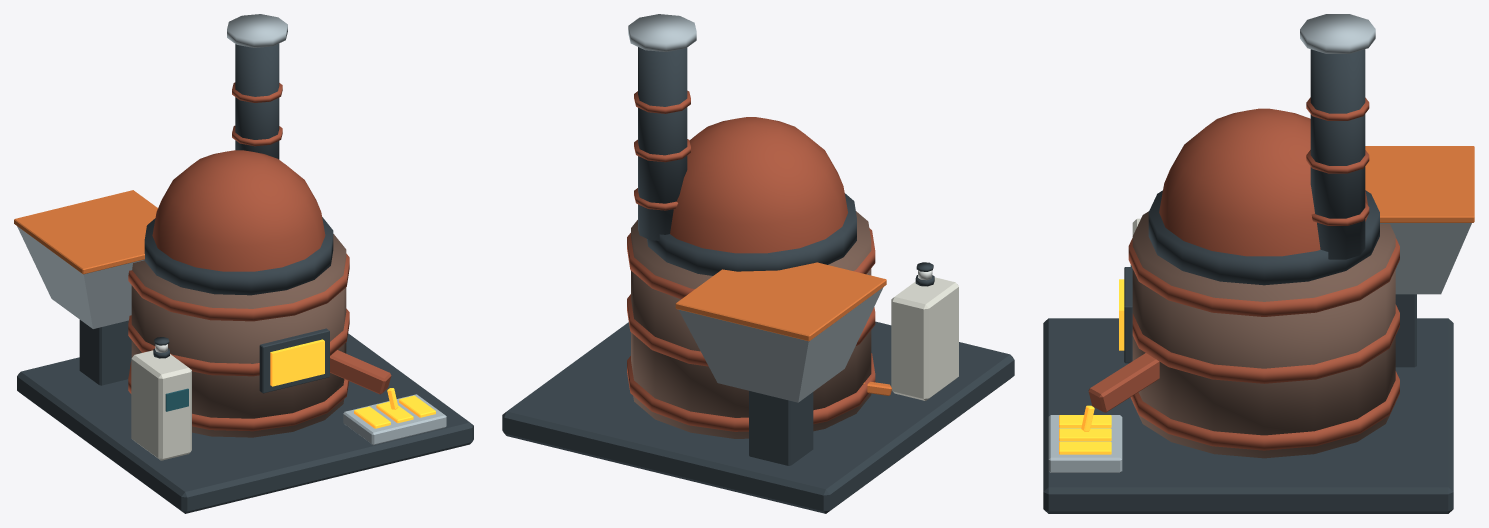
The model's file is furnace.glb.
The picture shows the model from 3 angles, left to right: view 1: azimuth 30°, elevation 25°; view 2: azimuth 150°, elevation 25°; view 3: azimuth 270°, elevation 25°; orthographic projection. The views are drawn at different scales.
Parts seen in each view (by area): view 1: furnace_dark, furnace_oxide, furnace_brick, furnace_metal, furnace_orange, furnace_ivory, Glow; view 2: furnace_dark, furnace_oxide, furnace_brick, furnace_metal, furnace_orange, furnace_ivory; view 3: furnace_dark, furnace_oxide, furnace_brick, furnace_metal, furnace_orange, Glow.
Boxes of the visible parts, x1,y1,x2,y2 form: furnace_dark: (17,43,473,513); furnace_oxide: (128,82,391,431); furnace_brick: (131,234,346,437); furnace_metal: (17,14,446,445); furnace_orange: (14,190,157,274); furnace_ivory: (131,350,191,460); Glow: (270,339,435,428); furnace_dark: (502,47,1014,513); furnace_oxide: (627,90,875,431); furnace_brick: (631,211,871,438); furnace_metal: (628,14,883,402); furnace_orange: (675,262,891,395); furnace_ivory: (891,277,958,400); furnace_dark: (1043,49,1453,513); furnace_oxide: (1088,97,1399,450); furnace_brick: (1132,211,1395,458); furnace_metal: (1048,14,1471,472); furnace_orange: (1365,146,1474,222); Glow: (1059,279,1124,454).
Bounding box in the file's own units: 3.9 × 4.5 × 4.1.
